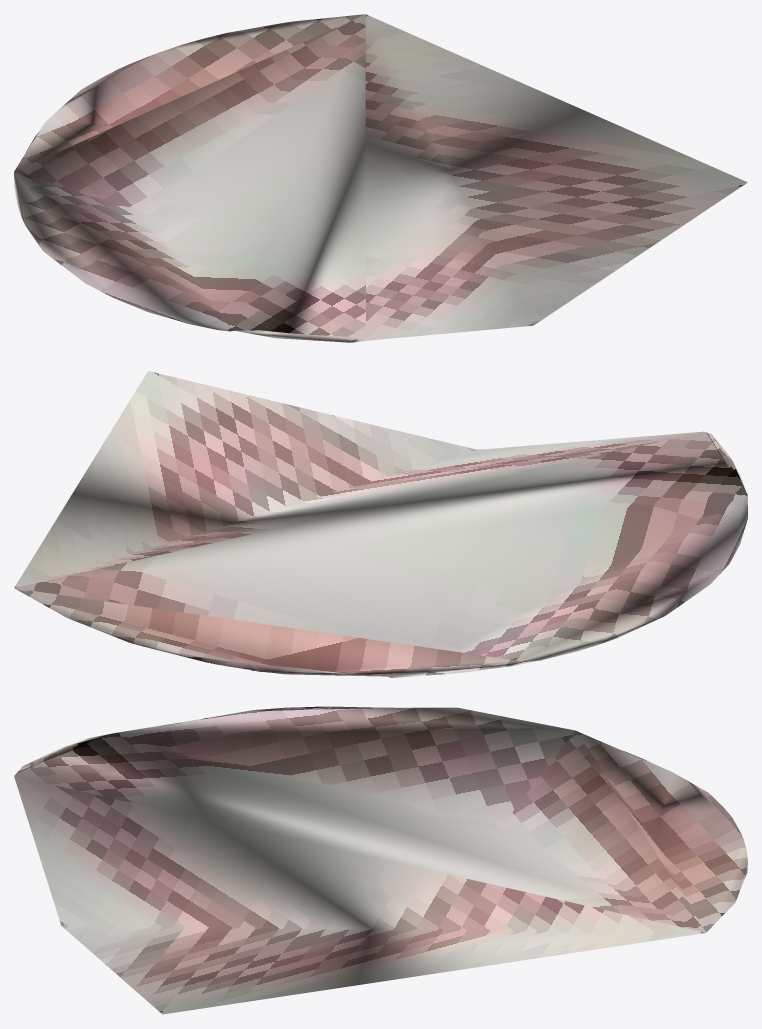
File: Threshold_Bistro_Ceramic_Dinner_Plate_Ruby_Ring-low.glb
The picture shows the model from 3 angles, top to bottom: view 1: azimuth 30°, elevation 25°; view 2: azimuth 150°, elevation 25°; view 3: azimuth 270°, elevation 25°; orthographic projection. The views are drawn at different scales.
Parts seen in each view (by area): view 1: Threshold_Bistro_Ceramic_Dinner_Plate_Ruby_Ring; view 2: Threshold_Bistro_Ceramic_Dinner_Plate_Ruby_Ring; view 3: Threshold_Bistro_Ceramic_Dinner_Plate_Ruby_Ring.
Boxes of the visible parts, x1,y1,x2,y2 form: Threshold_Bistro_Ceramic_Dinner_Plate_Ruby_Ring: (14,14,747,342); Threshold_Bistro_Ceramic_Dinner_Plate_Ruby_Ring: (14,371,747,677); Threshold_Bistro_Ceramic_Dinner_Plate_Ruby_Ring: (14,706,747,1014).
Bounding box in the file's own units: 0.2509 × 0.0236 × 0.2504.
Materials: 1 (1 with a texture image).
